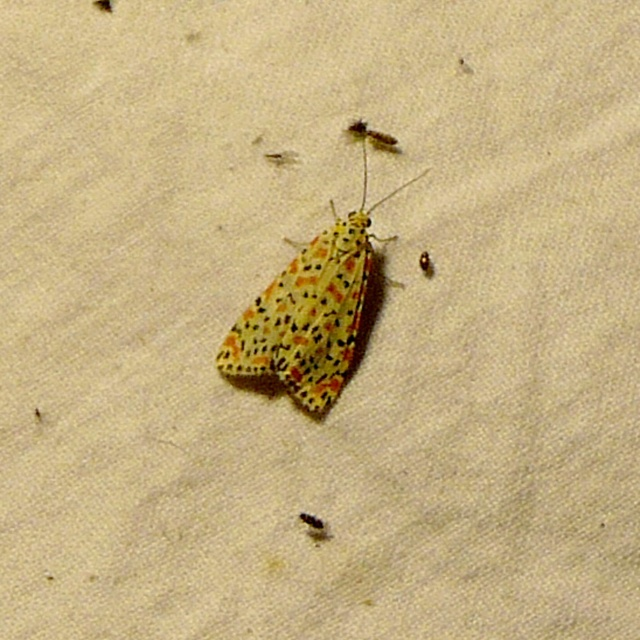Moths and butterflies: (216, 133, 433, 422)
